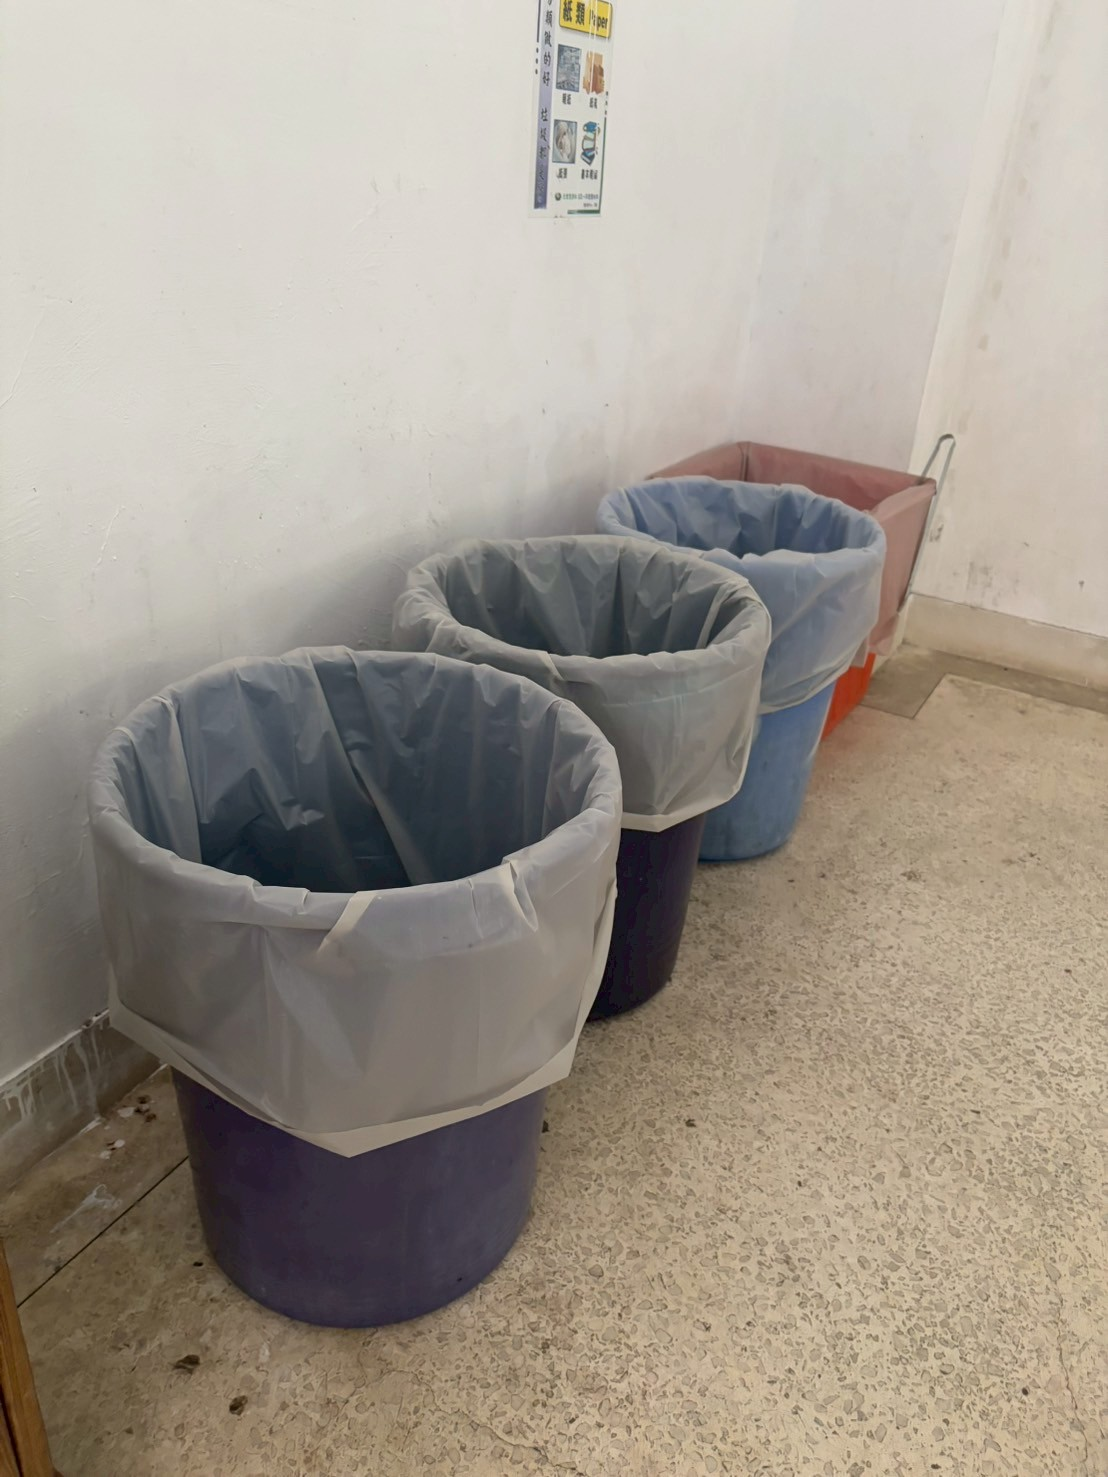normal_bin: (79, 630, 663, 1340)
